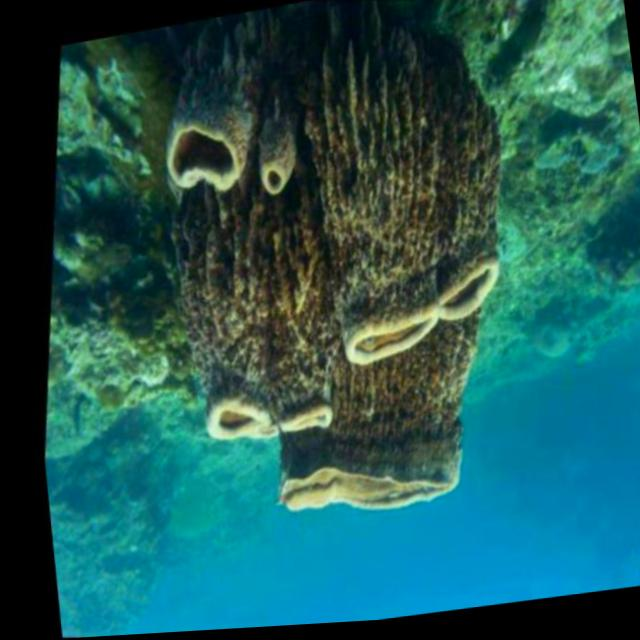Dead Coral: (26, 0, 591, 607)
